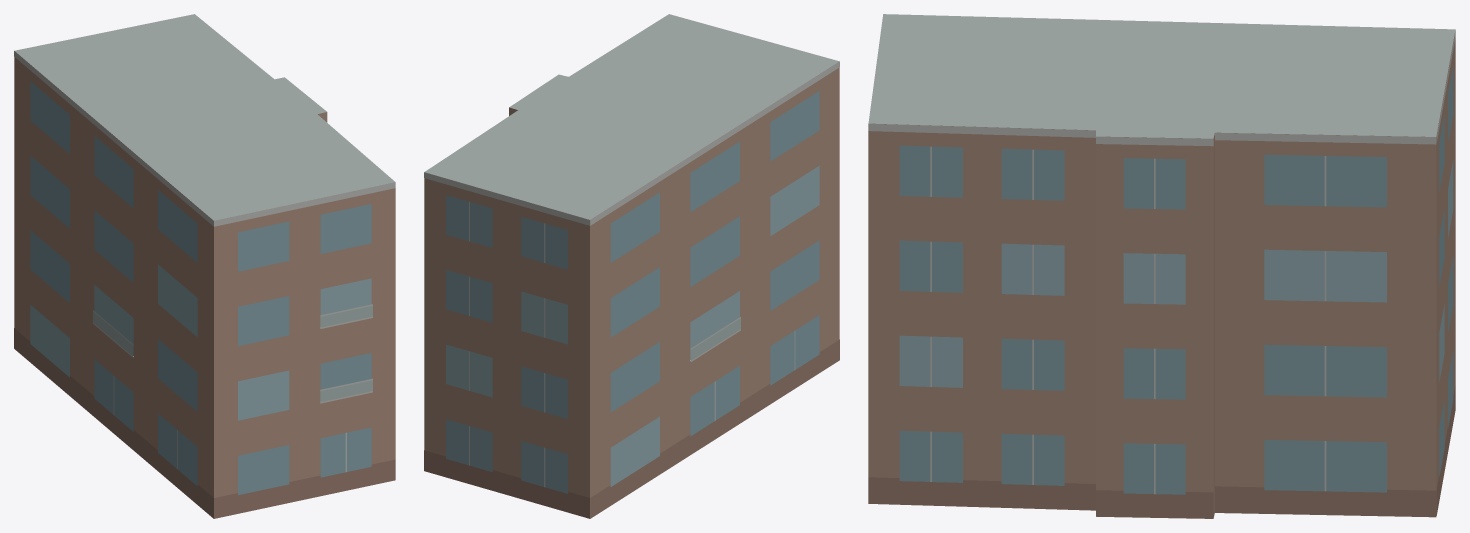
File: survey-upis-32519927.glb
The picture shows the model from 3 angles, left to right: view 1: azimuth 30°, elevation 25°; view 2: azimuth 150°, elevation 25°; view 3: azimuth 270°, elevation 25°; orthographic projection. The views are drawn at different scales.
Parts seen in each view (by area): view 1: survey-upis-32519927.tmp; view 2: survey-upis-32519927.tmp; view 3: survey-upis-32519927.tmp.
Part boxes in pixels (bbox=[...]): survey-upis-32519927.tmp: bbox=[14, 14, 395, 518]; survey-upis-32519927.tmp: bbox=[424, 14, 839, 518]; survey-upis-32519927.tmp: bbox=[868, 14, 1455, 518].
Bounding box in the file's own units: 8.7 × 12.35 × 17.3.
